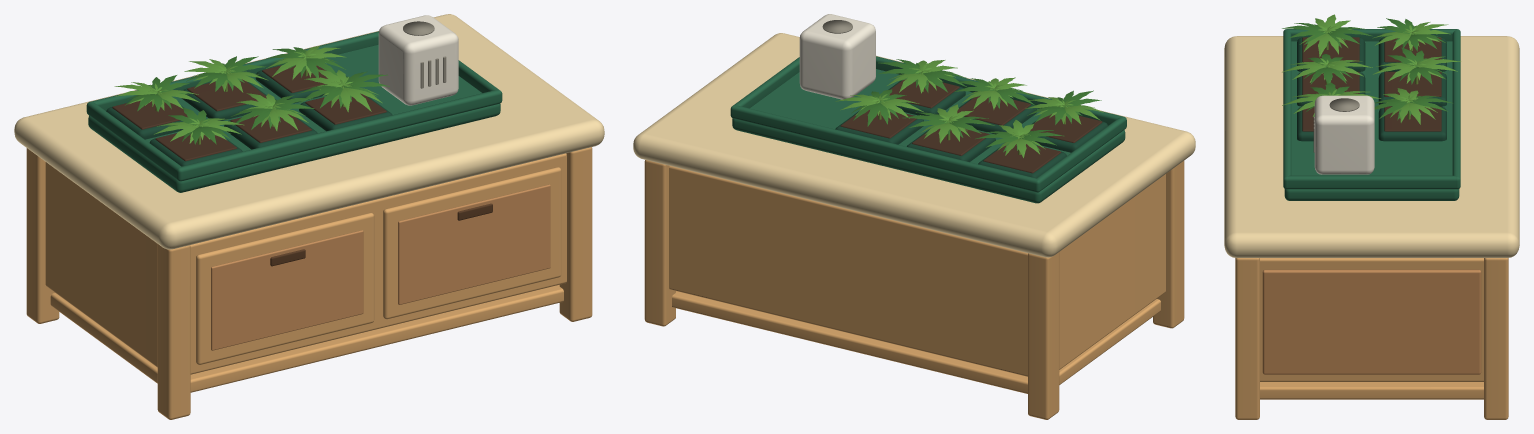
The model's file is seeds_bench_tier1.glb.
The picture shows the model from 3 angles, left to right: view 1: azimuth 30°, elevation 25°; view 2: azimuth 150°, elevation 25°; view 3: azimuth 270°, elevation 25°; orthographic projection. The views are drawn at different scales.
Parts seen in each view (by area): view 1: Top, Carcass, DrawerInset0, DrawerInset1, Stretcher, Tray, Drawer1, Drawer0, Leg-1-1, Humidifier, TrayRim1, Leg1-1 (+16 smaller); view 2: Carcass, Top, Tray, Stretcher, Humidifier, Leg-11, TrayRim0, Leg11, Leg-1-1, TrayRim3, Soil10, Soil00 (+12 smaller); view 3: Top, EndPanel, Tray, Carcass, Humidifier, Leg1-1, Leg11, Stretcher, TrayRim2, TrayRim0, TrayRim1, Soil12 (+32 smaller).
Part boxes in pixels (left/top/right/bottom): Top: left=14, top=14, right=604, bottom=249; Carcass: left=45, top=153, right=566, bottom=374; DrawerInset0: left=211, top=230, right=363, bottom=350; DrawerInset1: left=398, top=184, right=550, bottom=304; Stretcher: left=50, top=285, right=563, bottom=392; Tray: left=88, top=44, right=500, bottom=192; Drawer1: left=383, top=167, right=561, bottom=319; Drawer0: left=196, top=213, right=374, bottom=364; Leg-1-1: left=157, top=244, right=190, bottom=419; Humidifier: left=378, top=15, right=458, bottom=105; TrayRim1: left=176, top=90, right=502, bottom=181; Leg1-1: left=559, top=147, right=592, bottom=321; Carcass: left=669, top=166, right=1165, bottom=376; Top: left=633, top=33, right=1195, bottom=257; Tray: left=732, top=69, right=1125, bottom=203; Stretcher: left=672, top=291, right=1160, bottom=393; Humidifier: left=799, top=14, right=875, bottom=99; Leg-11: left=1028, top=252, right=1059, bottom=419; TrayRim0: left=730, top=105, right=1040, bottom=192; Leg11: left=644, top=160, right=675, bottom=326; Leg-1-1: left=1153, top=161, right=1184, bottom=328; TrayRim3: left=1036, top=117, right=1125, bottom=190; Soil10: left=983, top=144, right=1061, bottom=173; Soil00: left=1030, top=114, right=1102, bottom=142; Top: left=1224, top=36, right=1519, bottom=257; EndPanel: left=1262, top=269, right=1481, bottom=374; Tray: left=1284, top=41, right=1459, bottom=200; Carcass: left=1260, top=258, right=1483, bottom=381; Humidifier: left=1314, top=95, right=1374, bottom=174; Leg1-1: left=1235, top=258, right=1259, bottom=419; Leg11: left=1484, top=258, right=1508, bottom=419; Stretcher: left=1260, top=382, right=1483, bottom=399; TrayRim2: left=1288, top=175, right=1455, bottom=189; TrayRim0: left=1452, top=29, right=1460, bottom=189; TrayRim1: left=1283, top=29, right=1291, bottom=189; Soil12: left=1384, top=106, right=1441, bottom=131.
Size of the model in its own units: 1.78 by 1.06 by 1.08.
